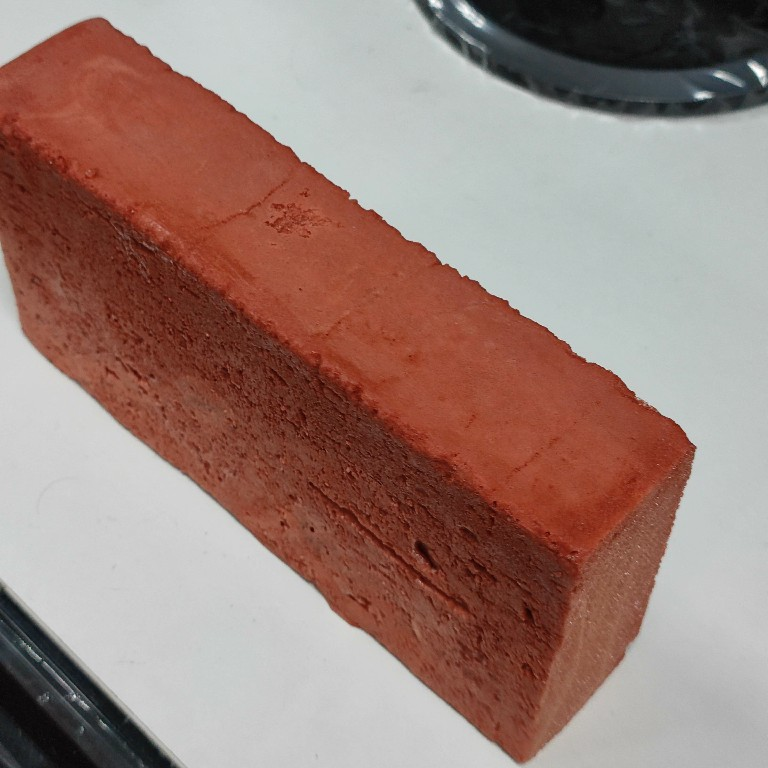brick: (1, 15, 696, 764)
